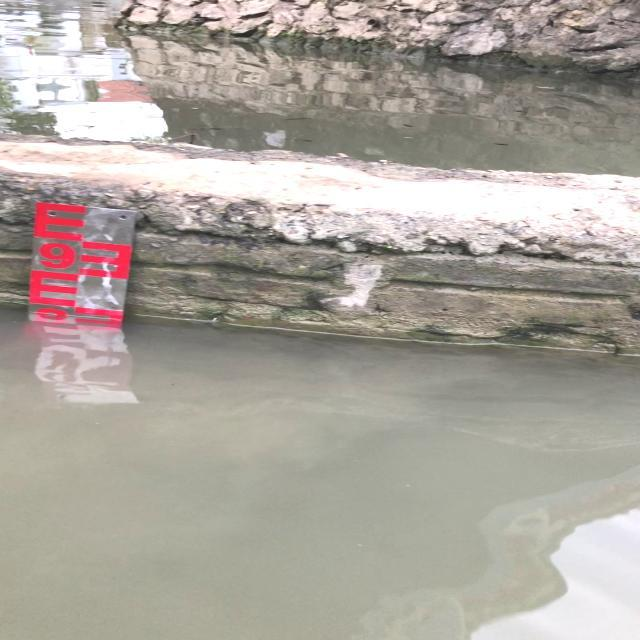ruler: (25, 194, 139, 325)
value: (30, 235, 81, 279)
